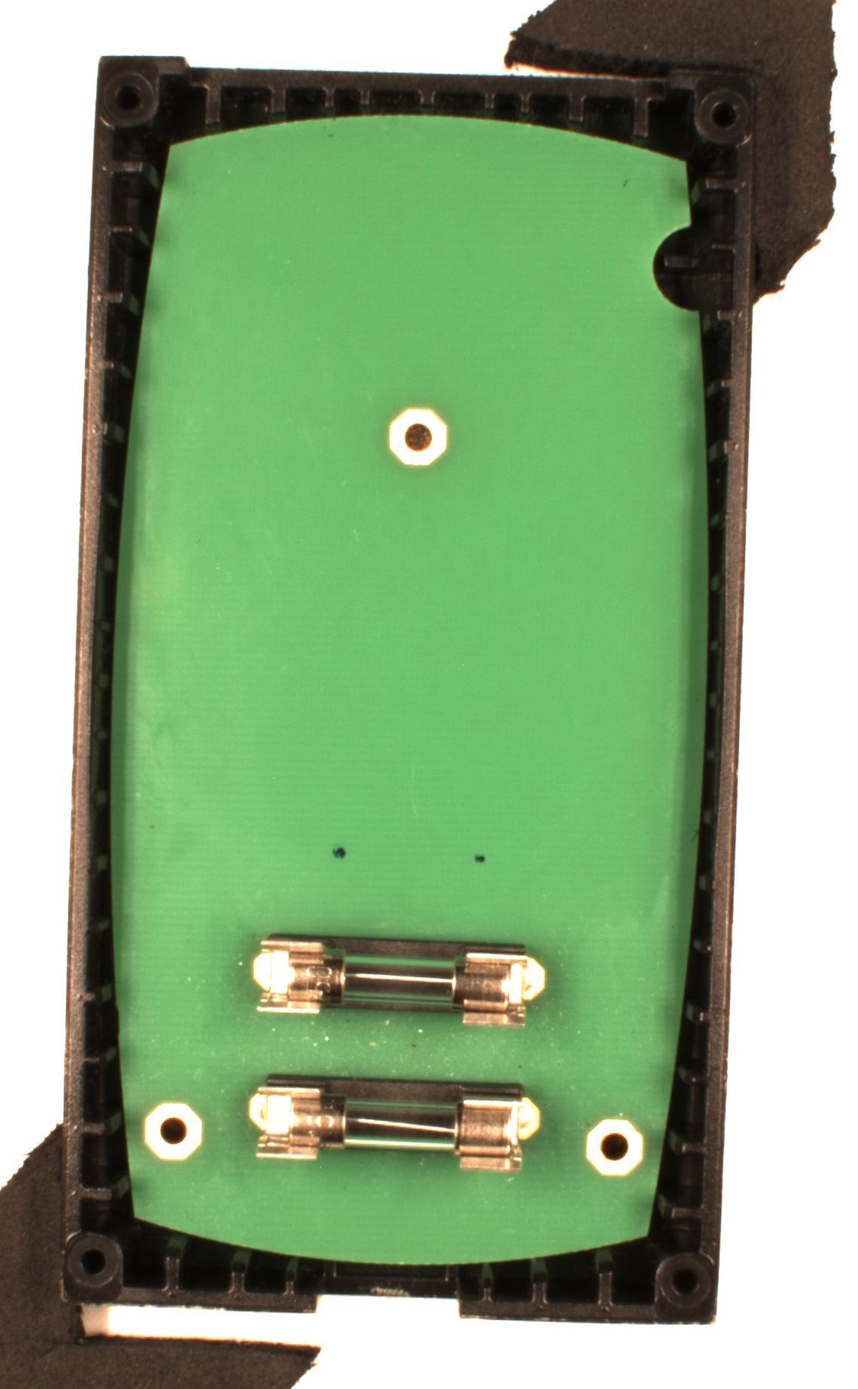Tockasto Ostecenje: (328, 842, 350, 862), (471, 850, 489, 865)
